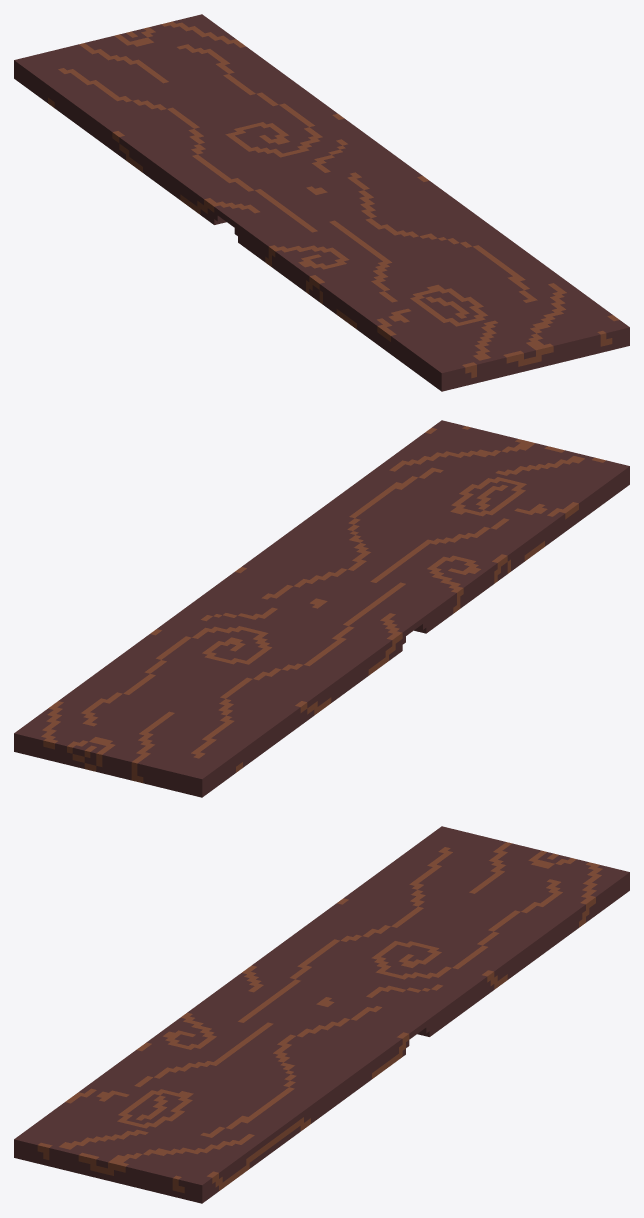
File: playground-1.obj
3 views of the same model, one above another, from view 1: azimuth 30°, elevation 25°; view 2: azimuth 150°, elevation 25°; view 3: azimuth 330°, elevation 25° (orthographic).
Size of the model in its own units: 3.2 by 0.3 by 12.6.
1 material, 1 textured.
